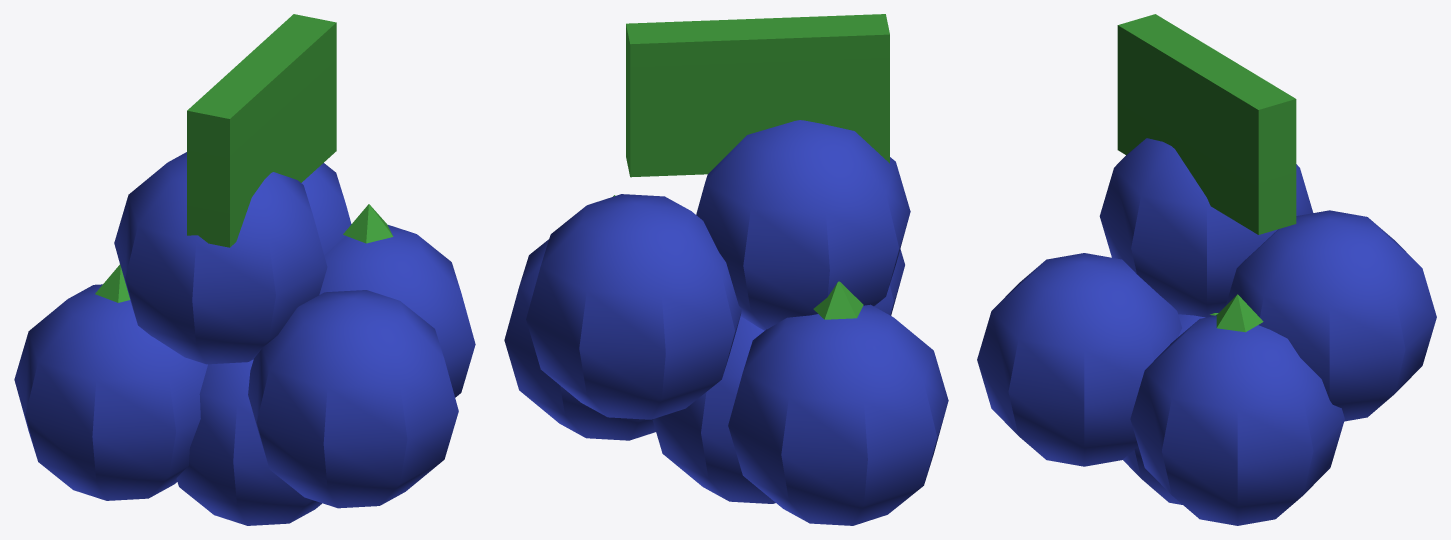
File: item_berry.glb
3 views of the same model, side by side, from view 1: azimuth 30°, elevation 25°; view 2: azimuth 150°, elevation 25°; view 3: azimuth 270°, elevation 25° (orthographic). The views are drawn at different scales.
Visible parts, largest first — view 1: item_berry, item_berry_detail; view 2: item_berry, item_berry_detail; view 3: item_berry, item_berry_detail.
Part boxes in pixels (bbox=[...]): item_berry: bbox=[14, 14, 475, 525]; item_berry_detail: bbox=[95, 204, 393, 302]; item_berry: bbox=[504, 14, 948, 525]; item_berry_detail: bbox=[613, 195, 863, 319]; item_berry: bbox=[977, 14, 1436, 525]; item_berry_detail: bbox=[1210, 294, 1263, 332].
Size of the model in its own units: 0.31 by 0.315 by 0.3.
